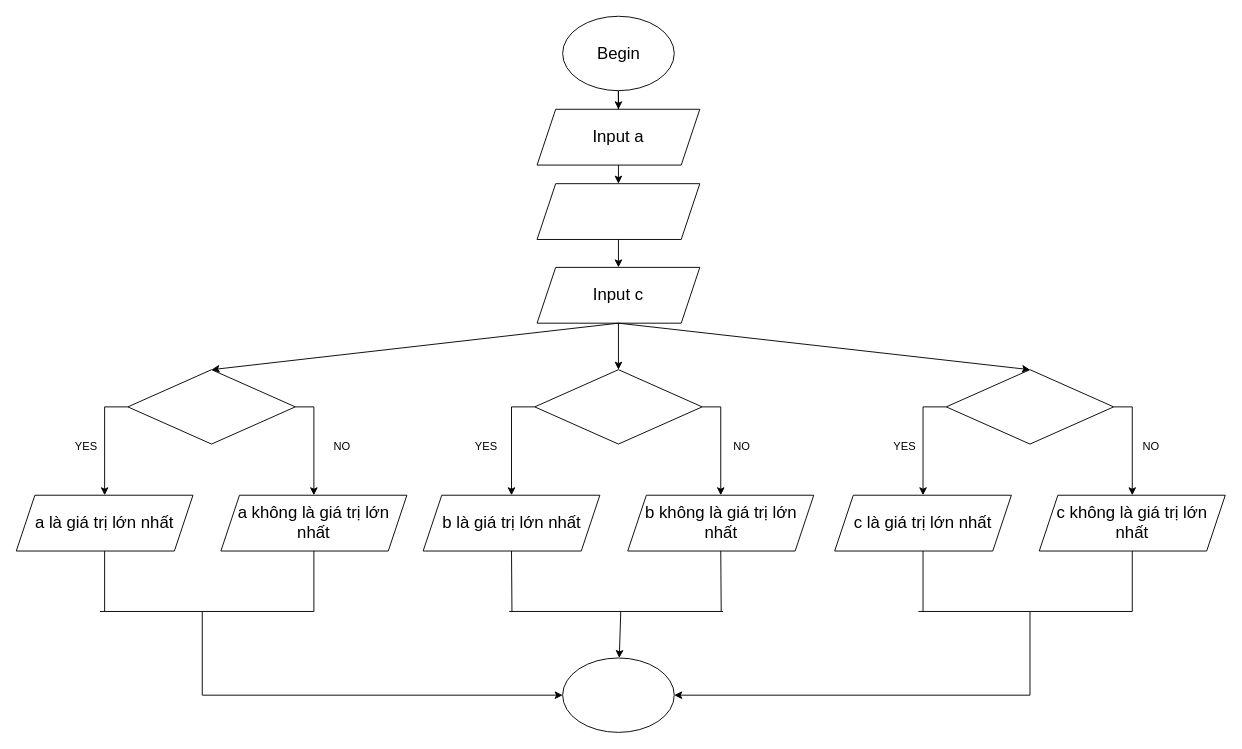
This 1242x749 diagram has some shape labels left out. The box of each missing label's shape, as (x1, y1, x2, y2) in pixels:
a > b a > c: (127, 369, 295, 444)
b > a b > c: (534, 369, 702, 444)
c > a c > b: (945, 369, 1114, 444)
End: (562, 657, 674, 732)
Input b: (536, 183, 700, 239)
